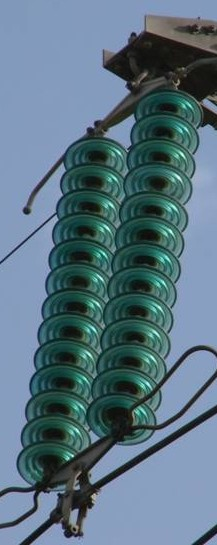isolator: (14, 88, 203, 489)
